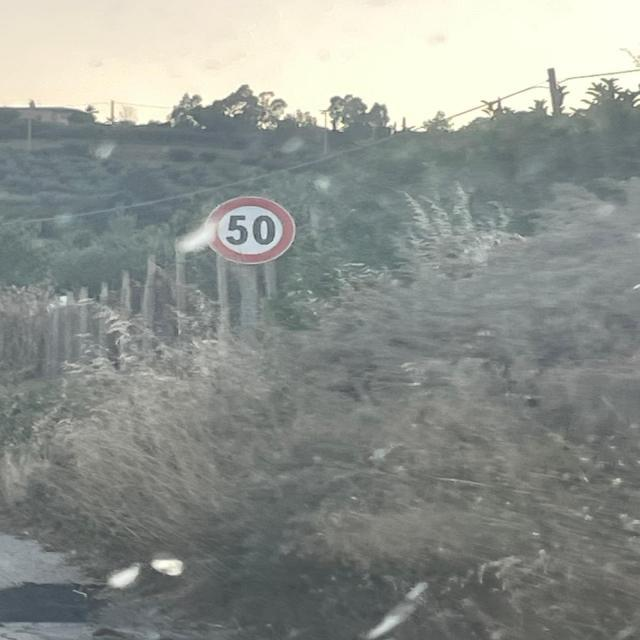forb_speed_over_50: (202, 196, 298, 266)
